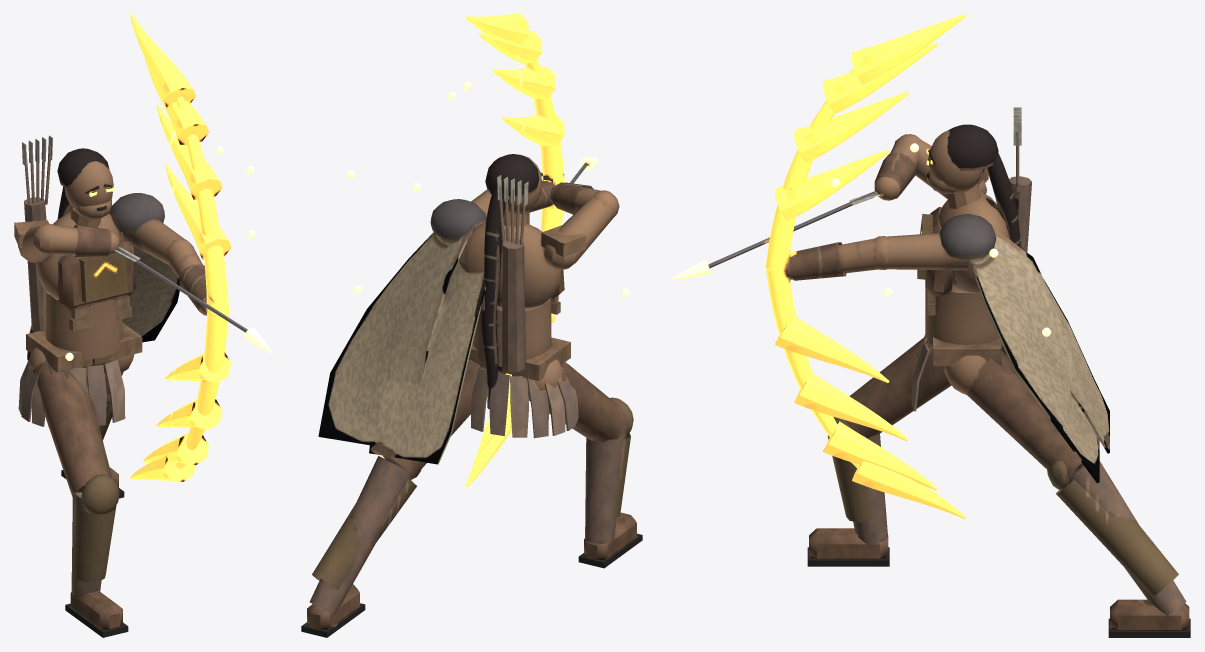
The model's file is SM_Champion_9014_Pyra.glb.
The picture shows the model from 3 angles, left to right: view 1: azimuth 30°, elevation 25°; view 2: azimuth 150°, elevation 25°; view 3: azimuth 270°, elevation 25°; orthographic projection. The views are drawn at different scales.
Visible parts, largest first — view 1: Pyra; view 2: Pyra; view 3: Pyra.
Boxes of the visible parts, x1,y1,x2,y2 form: Pyra: (14,14,272,637); Pyra: (301,14,642,637); Pyra: (671,14,1190,637).
Bounding box in the file's own units: 1.08 × 2.48 × 1.97.
Materials: 1 (1 with a texture image).
